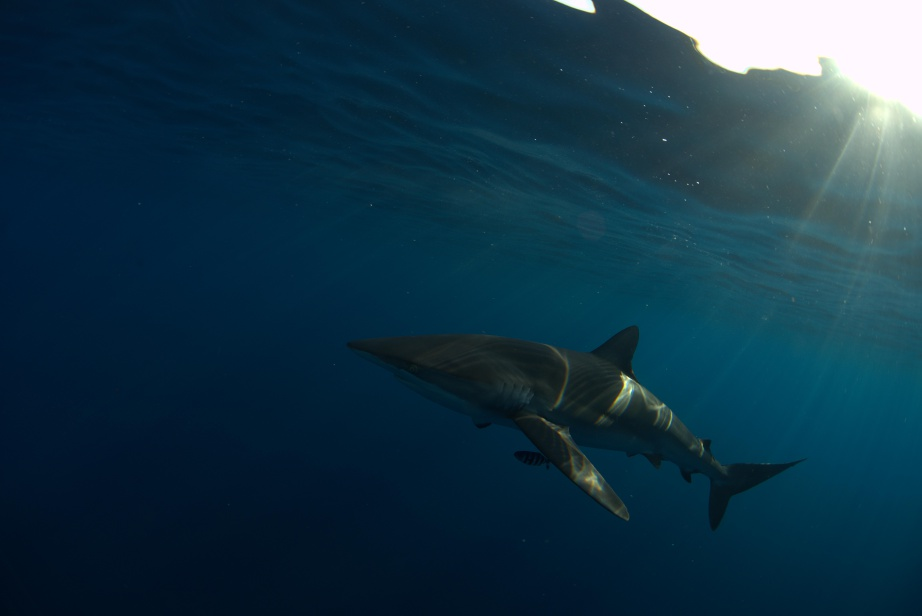Sedoso: (342, 316, 811, 539)
